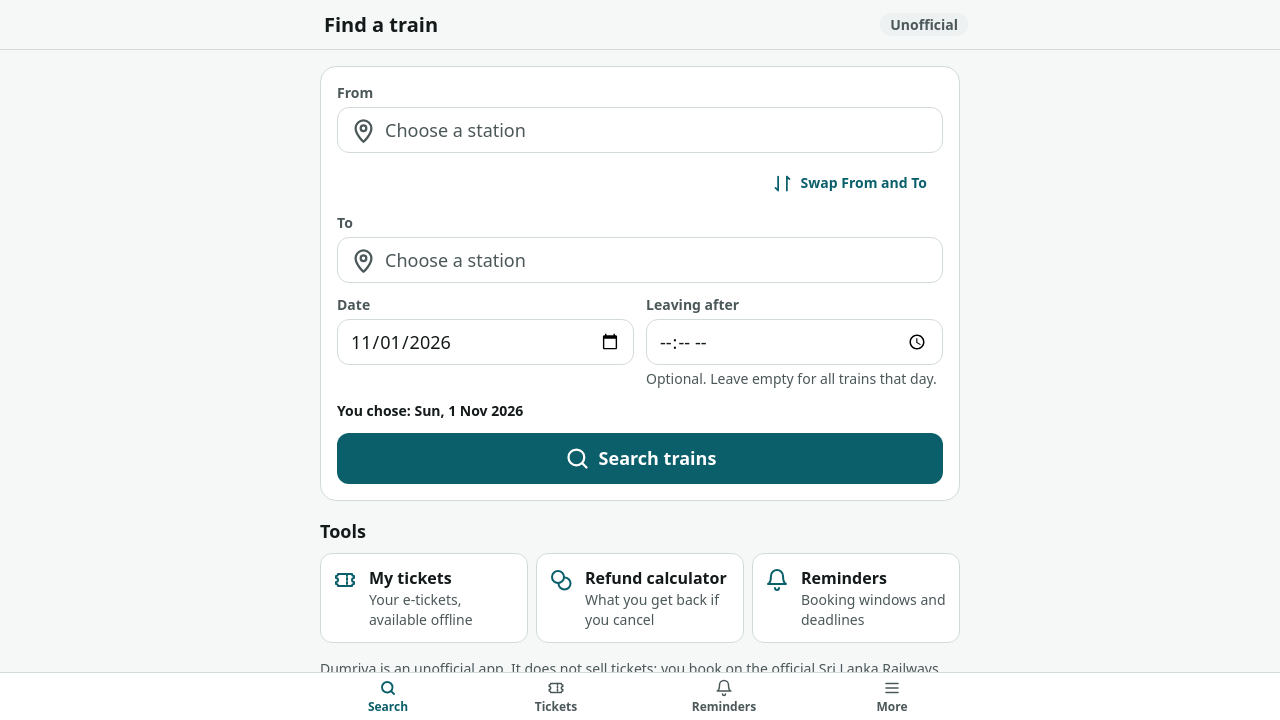
Test case: shows inline errors and focuses the first invalid field
The width and height of the screenshot is (1280, 720).
Step 1. Click the button "Search trains" → (640, 458), box left=337, top=433, right=943, bottom=484
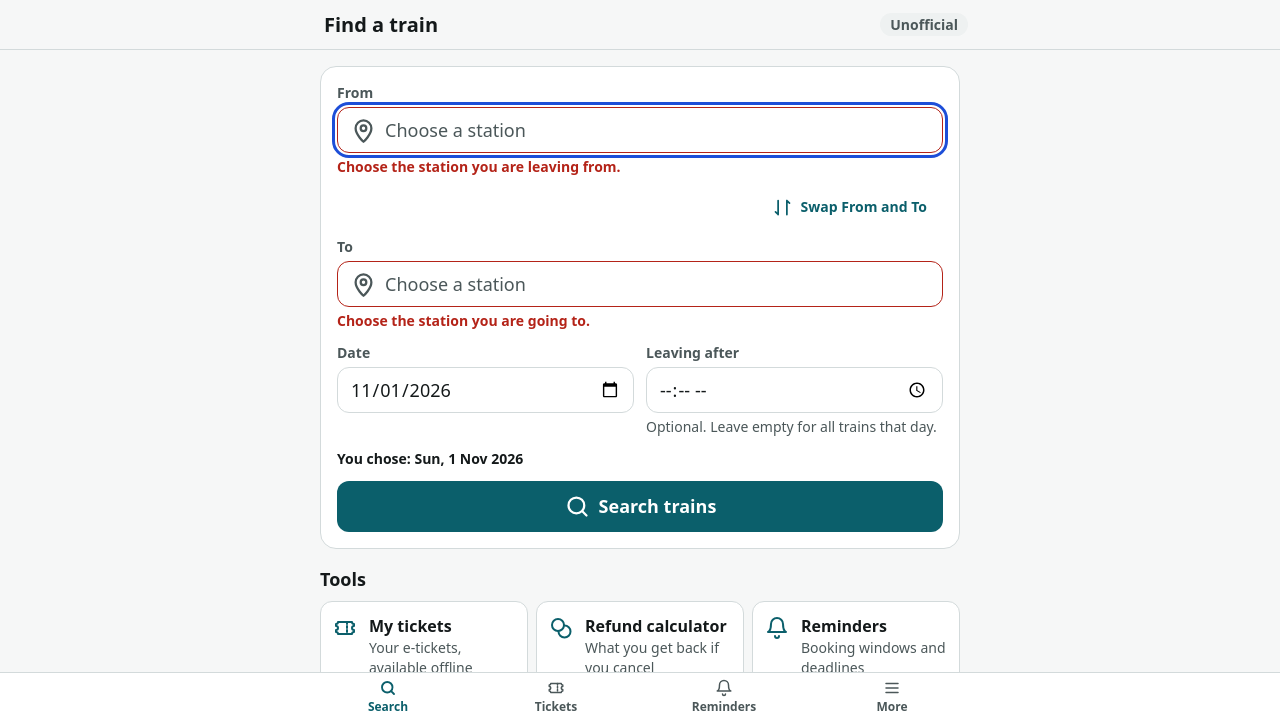
Expected: the text "Choose the station you are leaving from." is shown, left=337, top=157, right=621, bottom=176
Expected: the text "Choose the station you are going to." is shown, left=337, top=311, right=590, bottom=330
